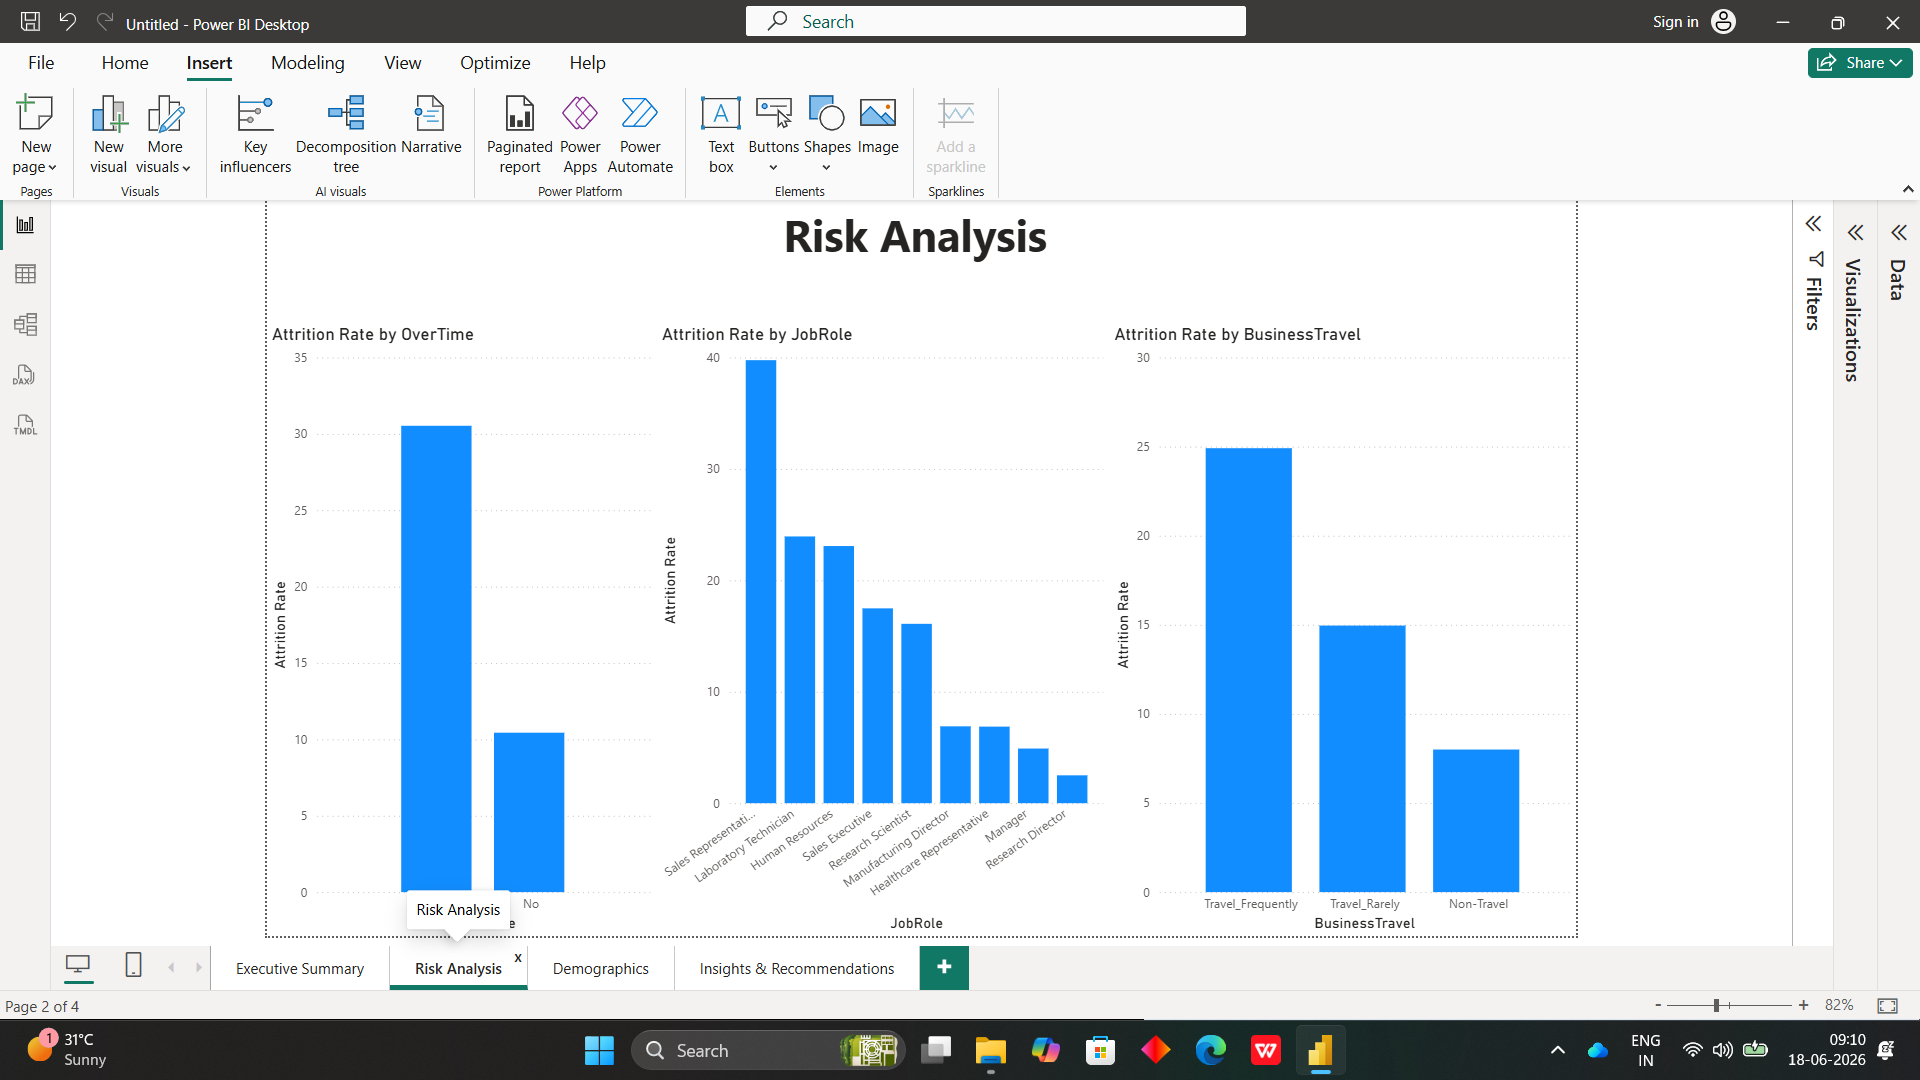

The dashboard page shown, as its layout file describes it:
{"tool":"powerbi","page":{"name":"Risk Analysis","canvas":[1280,720],"ordinal":1},"visuals":[{"type":"clusteredColumnChart","fields":{"Category":["HR_Attrition_Cleaned.OverTime"],"Y":["HR_Attrition_Cleaned.Attrition Rate"]},"box":[0,121.1,381.6,600],"z":0},{"type":"clusteredColumnChart","fields":{"Category":["HR_Attrition_Cleaned.JobRole"],"Y":["HR_Attrition_Cleaned.Attrition Rate"]},"box":[381.6,121.1,442.1,600],"z":1},{"type":"clusteredColumnChart","fields":{"Category":["HR_Attrition_Cleaned.BusinessTravel"],"Y":["HR_Attrition_Cleaned.Attrition Rate"]},"box":[823.7,121.1,455.3,600],"z":2},{"type":"textbox","box":[500,0,552.6,121.1],"z":3}]}

Visuals, with their boxes on the page's 1280x720 design canvas (x1, y1, x2, y2). These are canvas units, not pixel positions in the 1920x1080 screenshot, which may show the page scaled, cropped or inside an application window:
clusteredColumnChart - HR_Attrition_Cleaned.OverTime x HR_Attrition_Cleaned.Attrition Rate: Rect(0, 121, 382, 721)
clusteredColumnChart - HR_Attrition_Cleaned.JobRole x HR_Attrition_Cleaned.Attrition Rate: Rect(382, 121, 824, 721)
clusteredColumnChart - HR_Attrition_Cleaned.BusinessTravel x HR_Attrition_Cleaned.Attrition Rate: Rect(824, 121, 1279, 721)
textbox: Rect(500, 0, 1053, 121)
